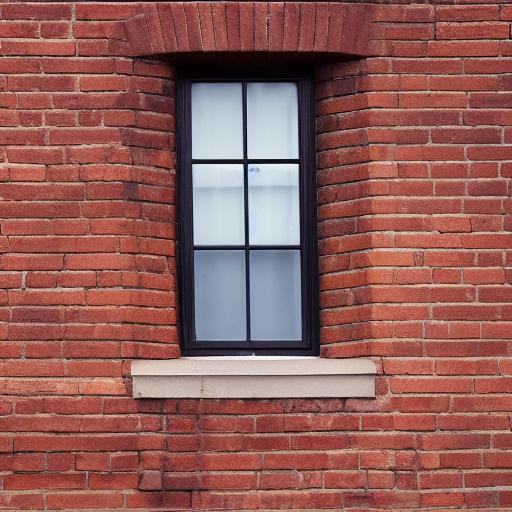Window: (130, 4, 380, 403)
